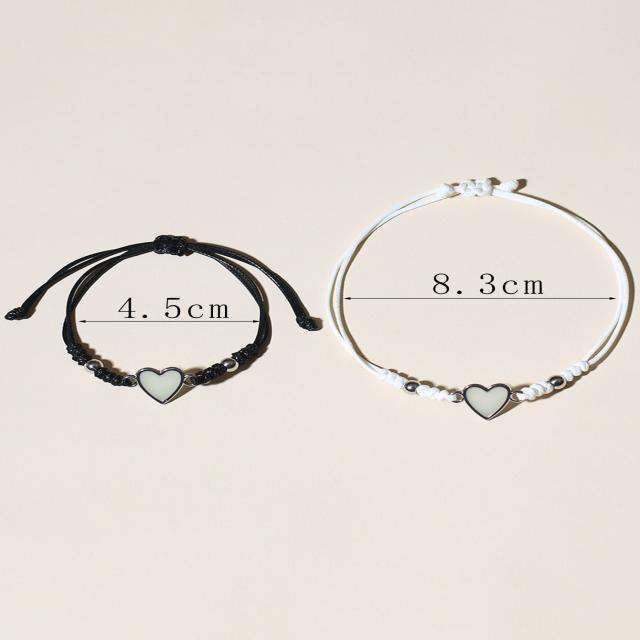bracelet: (290, 97, 640, 473), (0, 179, 327, 496)
